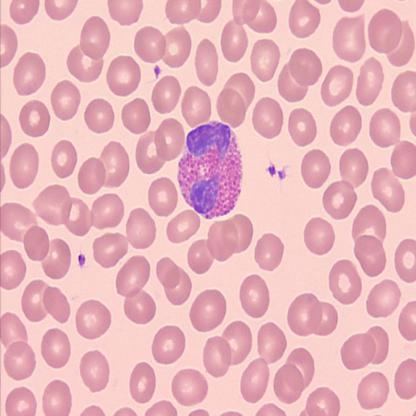Eosinophil: (177, 119, 243, 219)
